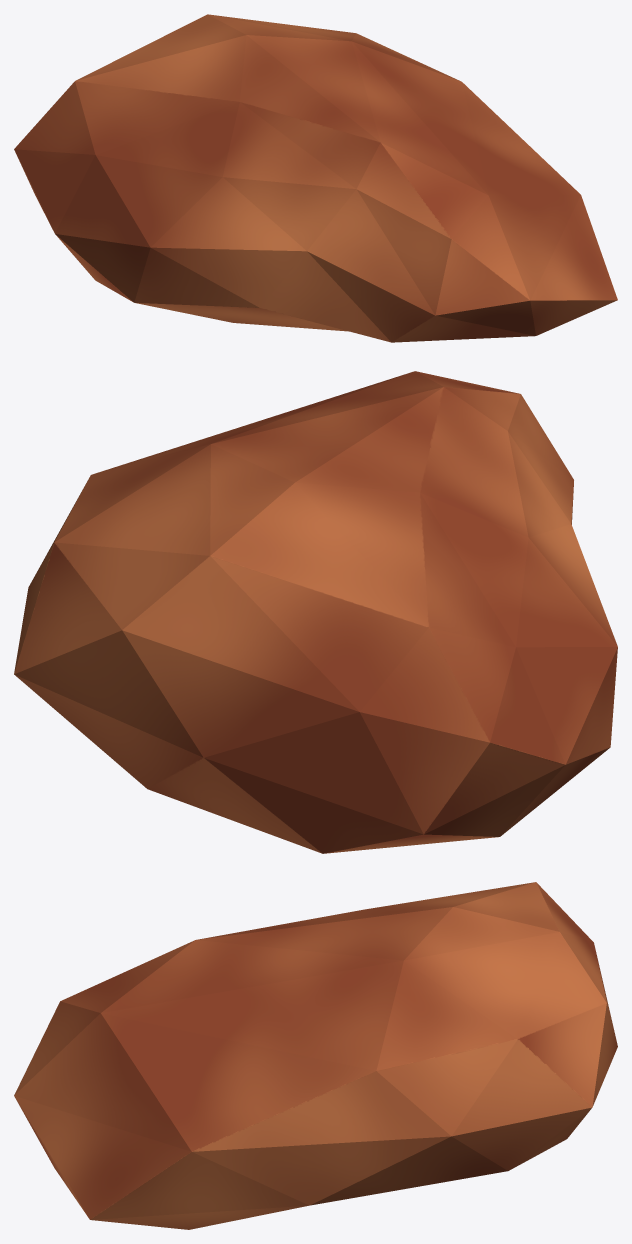
Rendered from Rock1.fbx.
The picture shows the model from 3 angles, top to bottom: view 1: azimuth 30°, elevation 25°; view 2: azimuth 150°, elevation 25°; view 3: azimuth 270°, elevation 25°; orthographic projection. The views are drawn at different scales.
Parts seen in each view (by area): view 1: Rock1; view 2: Rock1; view 3: Rock1.
Part boxes in pixels (x1,y1,x2,y2): Rock1: [14, 14, 617, 342]; Rock1: [14, 371, 617, 853]; Rock1: [14, 882, 617, 1229].
Bounding box in the file's own units: 292 × 157 × 350.
